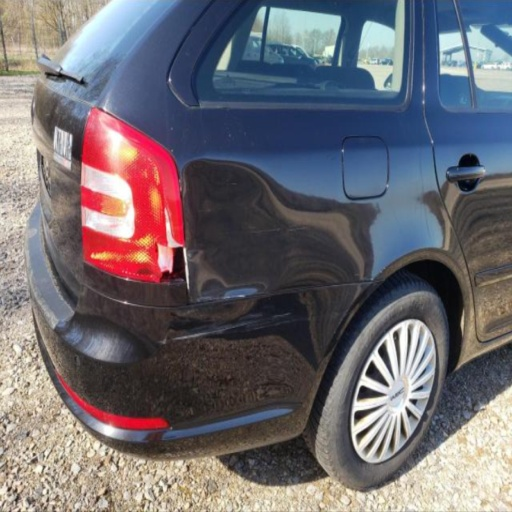dent: (168, 160, 293, 331)
scratch: (155, 310, 313, 344), (248, 225, 309, 237), (197, 295, 246, 302), (198, 209, 214, 213), (230, 182, 237, 187)
